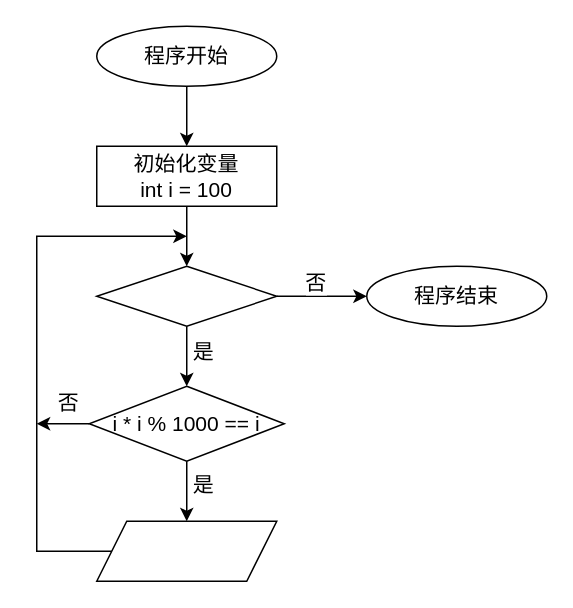
Some shapes in this 573 by 608 pixel diagram are drawn without their labels. Here are the shapes that lost their labels. From the top down, the centre of each, then its label:
At pixel 186 295: "i <= 999".
At pixel 186 550: "输出c".
